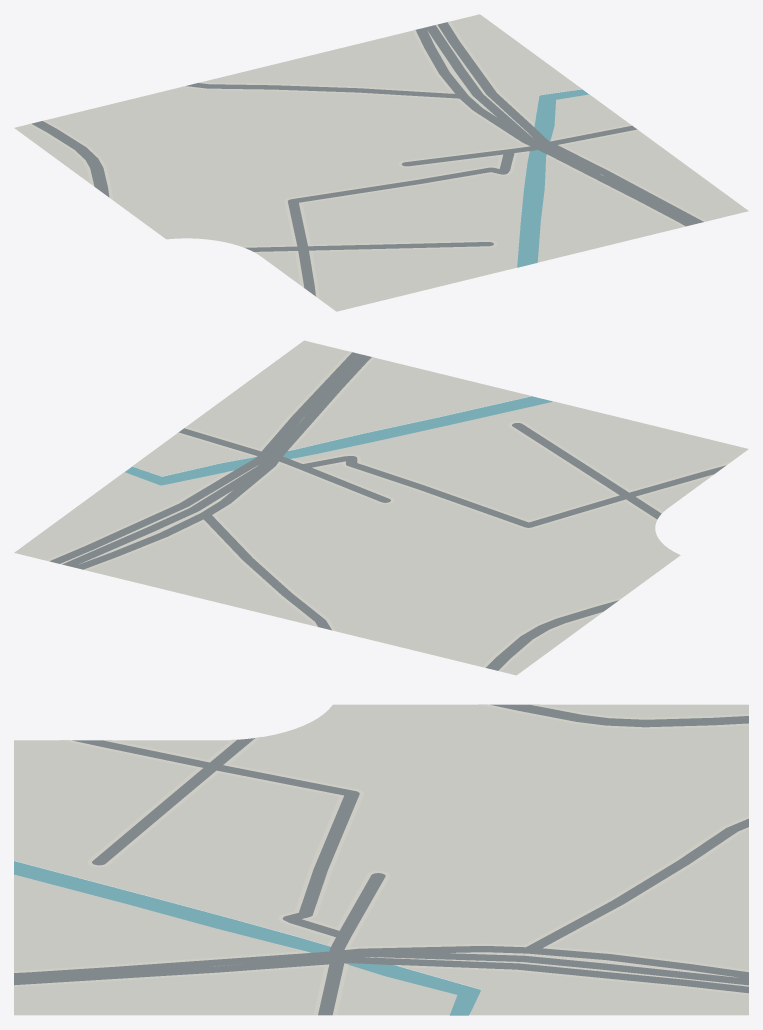
The picture shows the model from 3 angles, top to bottom: view 1: azimuth 30°, elevation 25°; view 2: azimuth 150°, elevation 25°; view 3: azimuth 270°, elevation 25°; orthographic projection. The views are drawn at different scales.
Parts seen in each view (by area): view 1: city; view 2: city; view 3: city.
Boxes of the visible parts, bbox=[...] form: city: bbox=[14, 14, 748, 311]; city: bbox=[14, 340, 748, 675]; city: bbox=[14, 704, 748, 1015].
Size of the model in its own units: 500 by 0.4 by 500.
